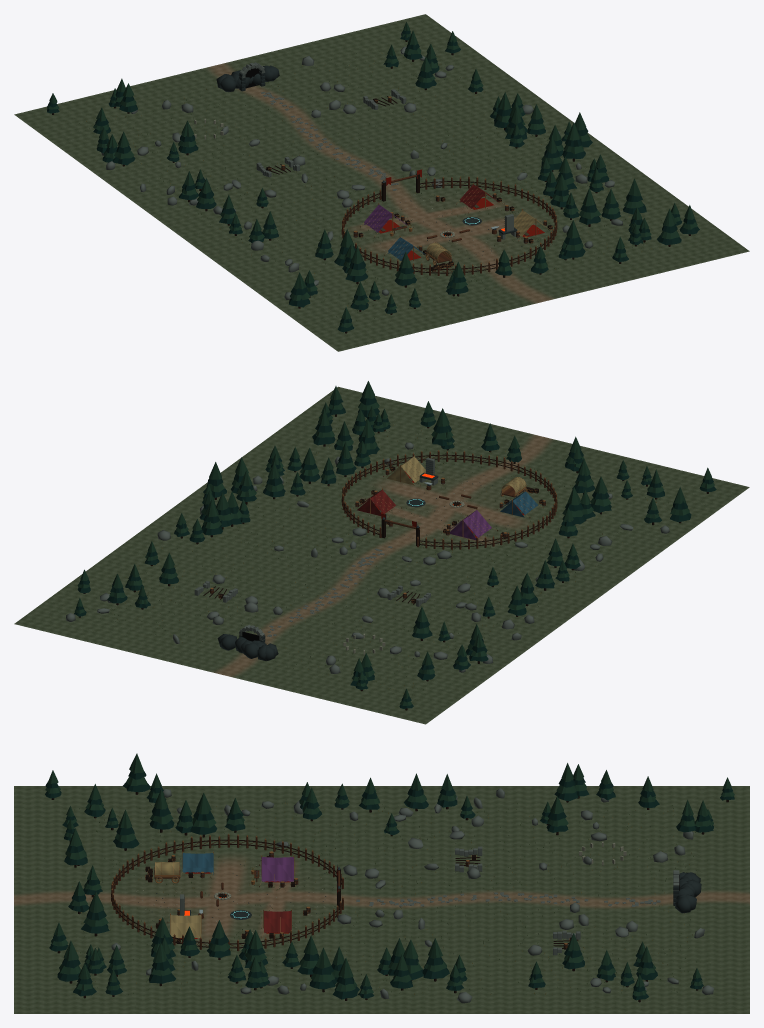
Rendered from rogue_encampment.glb.
The picture shows the model from 3 angles, top to bottom: view 1: azimuth 30°, elevation 25°; view 2: azimuth 150°, elevation 25°; view 3: azimuth 270°, elevation 25°; orthographic projection. The views are drawn at different scales.
Visible parts, largest first — view 1: Environment_ground, Environment_pine_light, Environment_pine, Environment_stone, Environment_wood, Environment_wood_dark, Environment_stone_dark, Environment_grass, Environment_wood_cut, Environment_red, Environment_canvas; view 2: Environment_ground, Environment_pine_light, Environment_pine, Environment_stone, Environment_wood, Environment_wood_dark, Environment_stone_dark, Environment_canvas, Environment_purple, Environment_grass, Environment_wood_cut, Environment_canvas_red; view 3: Environment_ground, Environment_pine_light, Environment_pine, Environment_stone, Environment_wood, Environment_wood_dark, Environment_stone_dark, Environment_canvas, Environment_grass, Environment_purple, Environment_wood_cut, Environment_canvas_blue (+2 smaller).
Boxes of the visible parts, <box> form: Environment_ground: <box>14,14,749,351</box>; Environment_pine_light: <box>47,22,697,327</box>; Environment_pine: <box>47,30,699,332</box>; Environment_stone: <box>101,32,622,299</box>; Environment_wood: <box>269,97,557,275</box>; Environment_wood_dark: <box>52,40,690,333</box>; Environment_stone_dark: <box>216,65,550,278</box>; Environment_grass: <box>79,51,661,320</box>; Environment_wood_cut: <box>268,96,556,271</box>; Environment_red: <box>379,169,544,260</box>; Environment_canvas: <box>426,210,549,259</box>; Environment_ground: <box>14,386,749,724</box>; Environment_pine_light: <box>74,381,714,705</box>; Environment_pine: <box>74,396,716,708</box>; Environment_stone: <box>66,442,669,673</box>; Environment_wood: <box>210,451,557,602</box>; Environment_wood_dark: <box>79,414,708,710</box>; Environment_stone_dark: <box>217,461,508,660</box>; Environment_canvas: <box>387,456,526,493</box>; Environment_purple: <box>449,510,491,540</box>; Environment_grass: <box>82,416,668,695</box>; Environment_wood_cut: <box>210,450,556,603</box>; Environment_canvas_red: <box>357,490,395,515</box>; Environment_ground: <box>14,786,749,1013</box>; Environment_pine_light: <box>45,753,734,996</box>; Environment_pine: <box>45,771,734,1000</box>; Environment_stone: <box>111,788,713,1003</box>; Environment_wood: <box>111,835,569,951</box>; Environment_wood_dark: <box>51,792,728,1002</box>; Environment_stone_dark: <box>138,864,701,942</box>; Environment_canvas: <box>155,862,201,938</box>; Environment_grass: <box>74,803,696,994</box>; Environment_purple: <box>256,857,293,881</box>; Environment_wood_cut: <box>111,833,569,944</box>; Environment_canvas_blue: <box>182,853,213,874</box>.
Size of the model in its own units: 88 by 9.06 by 120.
25 materials, 7 textured.
